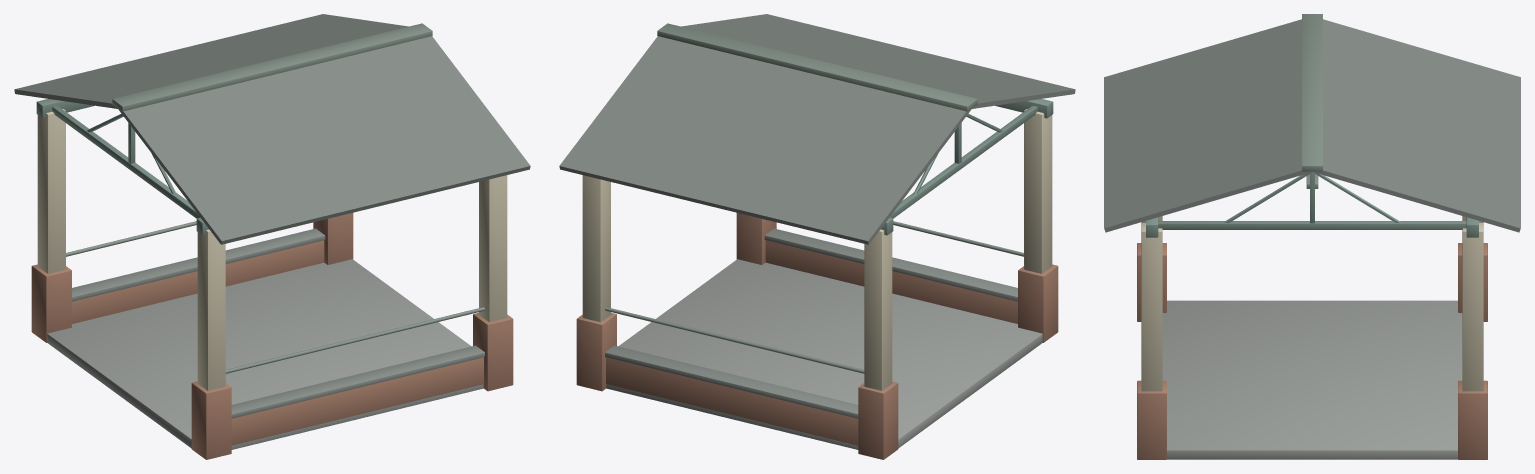
File: CTCC_ENV_CoveredWalkwayBay.fbx
The picture shows the model from 3 angles, left to right: view 1: azimuth 30°, elevation 25°; view 2: azimuth 150°, elevation 25°; view 3: azimuth 270°, elevation 25°; orthographic projection.
Parts seen in each view (by area): view 1: CTCC_ENV_CoveredWalkwayBay_LOD0; view 2: CTCC_ENV_CoveredWalkwayBay_LOD0; view 3: CTCC_ENV_CoveredWalkwayBay_LOD0.
Part boxes in pixels (x1,y1,x2,y2): CTCC_ENV_CoveredWalkwayBay_LOD0: (14,14,530,459); CTCC_ENV_CoveredWalkwayBay_LOD0: (559,14,1075,459); CTCC_ENV_CoveredWalkwayBay_LOD0: (1104,14,1520,459).
Size of what is drawn, in the model's own units: 4.08 by 3.7 by 4.73.
